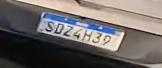Placa_mercosul_carro: (36, 12, 125, 51)
